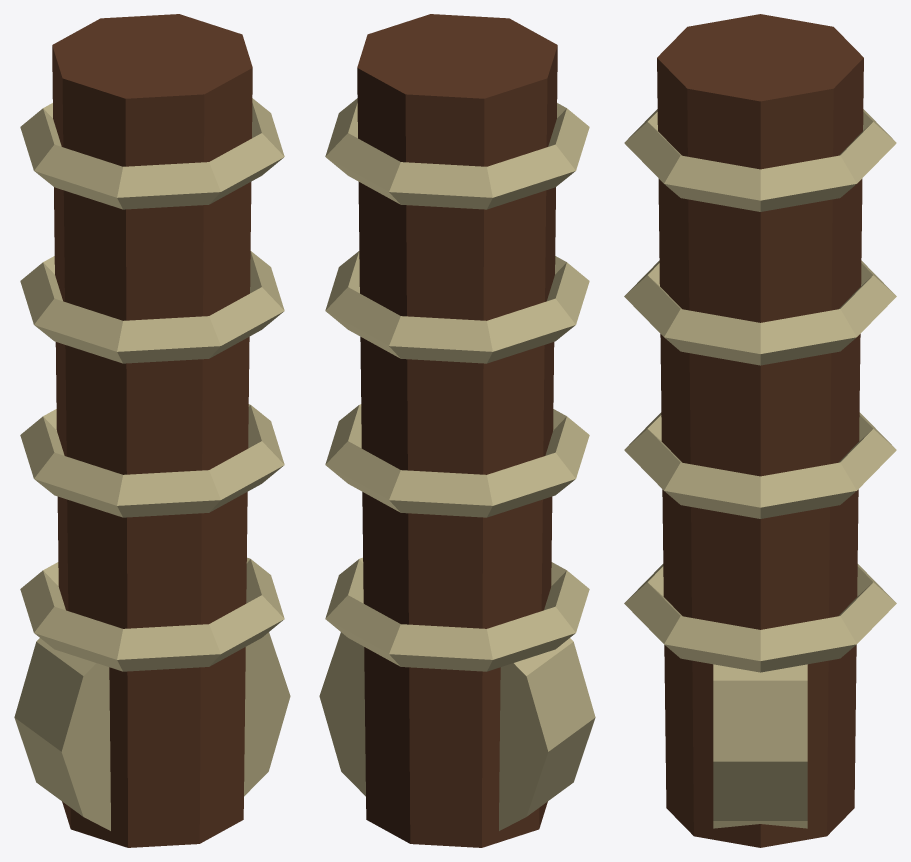
The model's file is ringed.obj.
3 renders of one model, left to right at view 1: azimuth 30°, elevation 25°; view 2: azimuth 150°, elevation 25°; view 3: azimuth 270°, elevation 25°, orthographic.
Visible parts, largest first — view 1: ringed_grip, ring_pommel, grip_ring_3, grip_ring_2, grip_ring_1, grip_ring_0; view 2: ringed_grip, ring_pommel, grip_ring_3, grip_ring_2, grip_ring_1, grip_ring_0; view 3: ringed_grip, ring_pommel, grip_ring_3, grip_ring_2, grip_ring_1, grip_ring_0.
Boxes of the visible parts, <box> form: ringed_grip: <box>52,14,252,847</box>; ring_pommel: <box>14,632,290,830</box>; grip_ring_3: <box>20,557,284,671</box>; grip_ring_2: <box>20,404,284,517</box>; grip_ring_1: <box>20,251,284,363</box>; grip_ring_0: <box>20,98,284,209</box>; ringed_grip: <box>357,14,557,847</box>; ring_pommel: <box>319,632,595,830</box>; grip_ring_3: <box>325,557,589,671</box>; grip_ring_2: <box>325,404,589,517</box>; grip_ring_1: <box>325,251,589,363</box>; grip_ring_0: <box>325,98,589,209</box>; ringed_grip: <box>657,14,863,847</box>; ring_pommel: <box>713,664,807,828</box>; grip_ring_3: <box>624,564,896,672</box>; grip_ring_2: <box>624,412,896,518</box>; grip_ring_1: <box>624,260,896,365</box>; grip_ring_0: <box>624,109,896,211</box>.
Bounding box in the file's own units: 0.29 × 0.8931 × 0.29.
